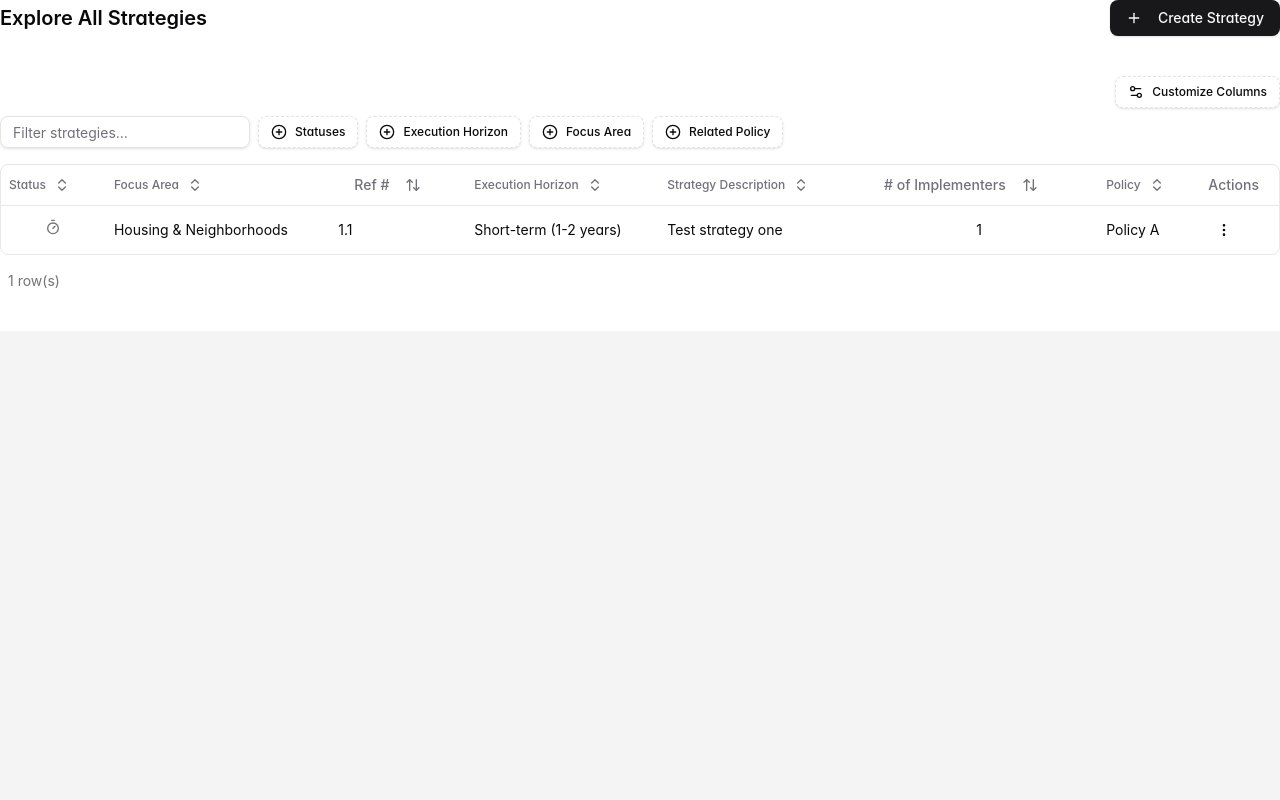
Test case: FullStrategyList › Create Strategy button › opens modal when clicked
The image size is (1280, 800).
Click the button "Create Strategy" at (1195, 18), box [1110, 0, 1279, 36]
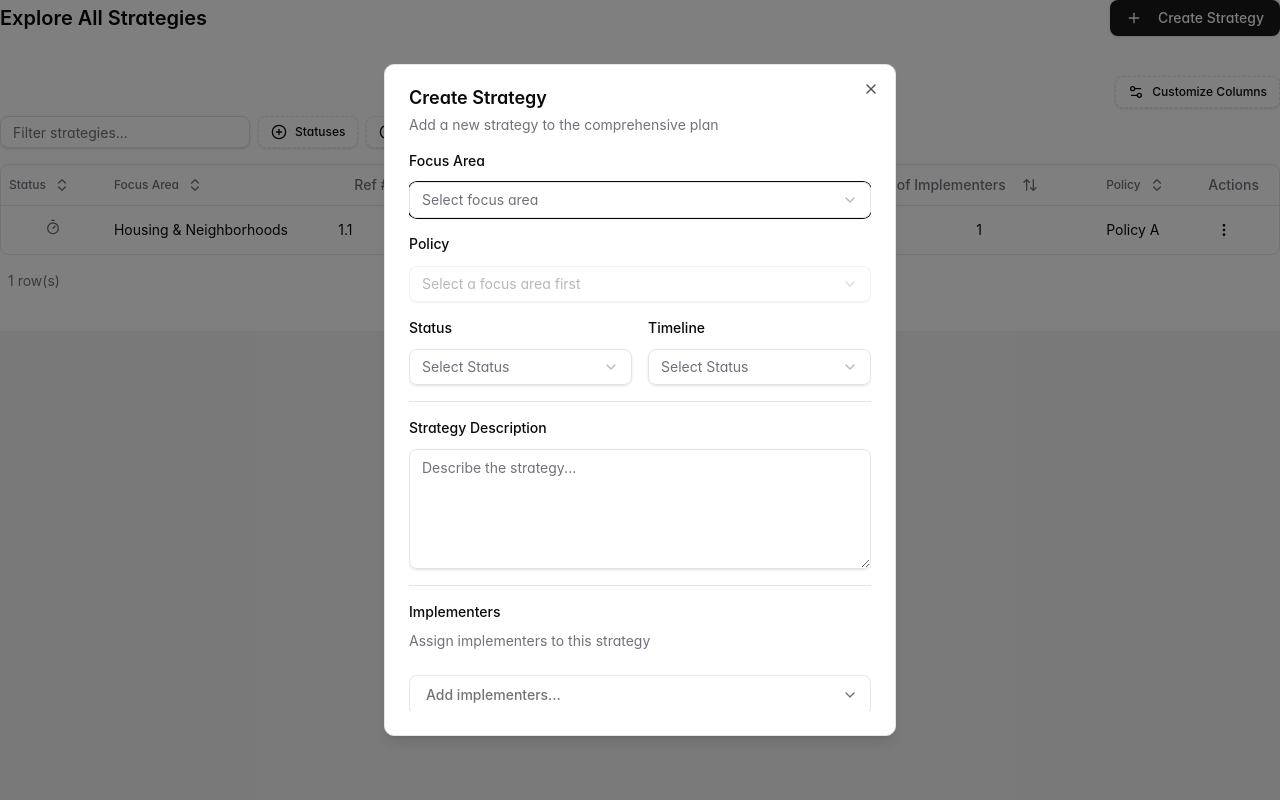
Expected: the text "Add a new strategy to the comprehensive plan" is shown, [409, 116, 719, 133]
